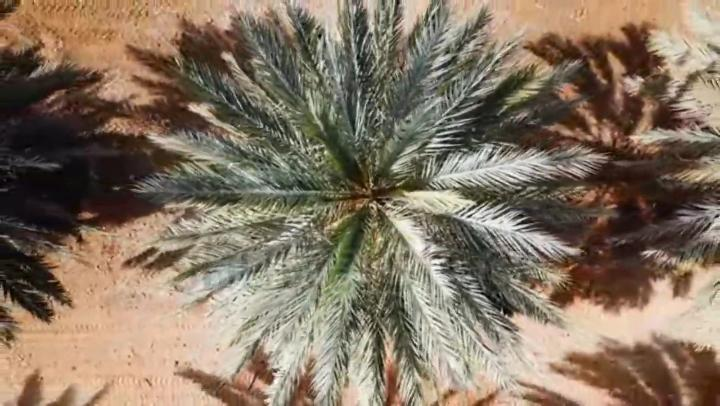Date-Palm-Crown: (286, 102, 456, 278)
